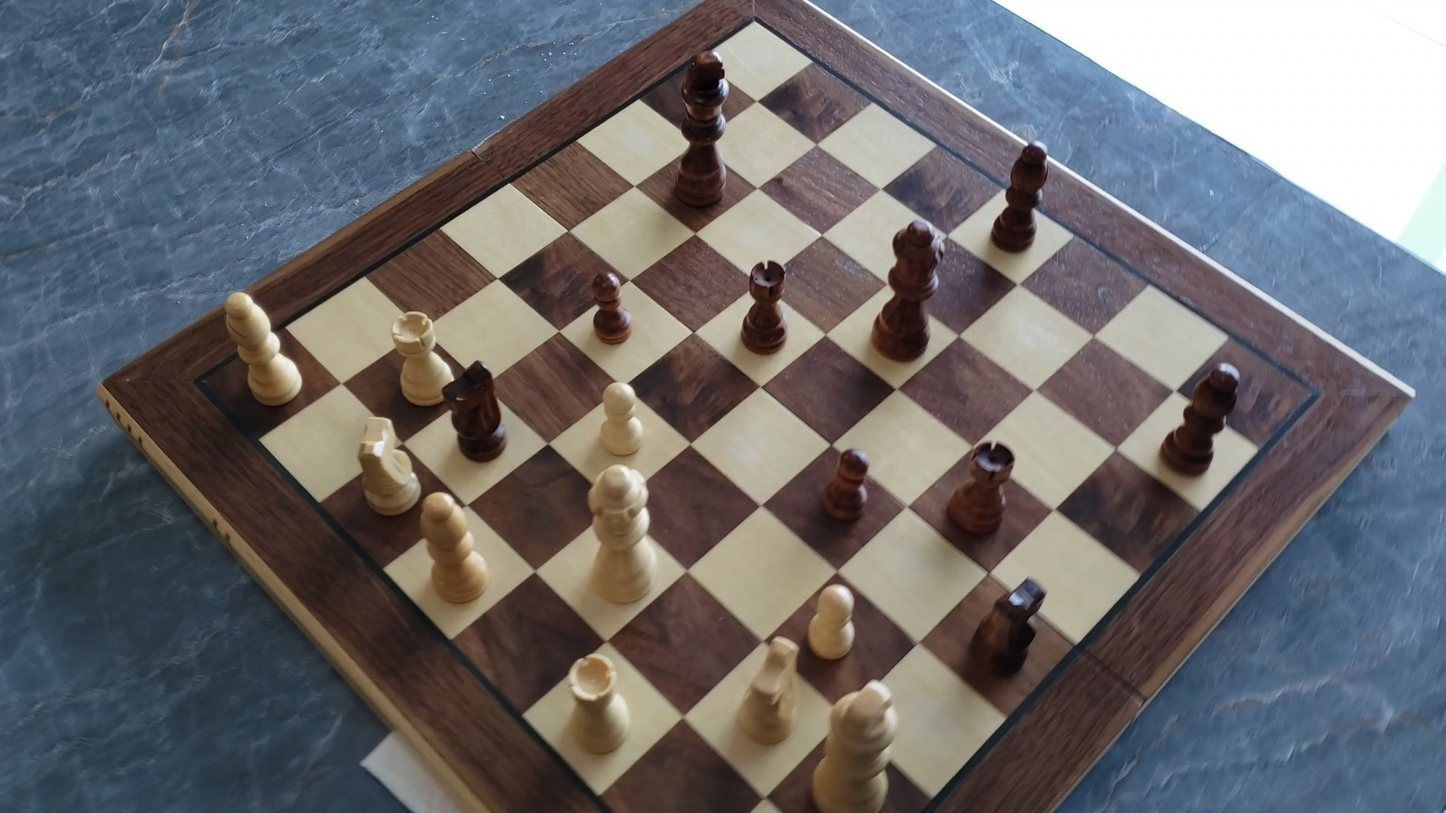black-bishop: (1158, 358, 1243, 475), (988, 137, 1050, 255)
black-king: (663, 48, 750, 233)
black-knight: (965, 575, 1050, 681), (443, 357, 508, 462)
black-pawn: (818, 444, 873, 526), (588, 265, 634, 348)
black-queen: (870, 217, 945, 363)
black-rook: (944, 439, 1017, 539), (739, 257, 790, 356)
white-bishop: (218, 286, 305, 410), (415, 489, 494, 607)
white-king: (806, 676, 905, 812)
white-knight: (734, 633, 804, 749), (354, 414, 424, 519)
white-pawn: (802, 580, 862, 666), (593, 378, 648, 461)
white-queen: (581, 461, 661, 610)
white-rook: (561, 649, 637, 759), (387, 305, 454, 409)
